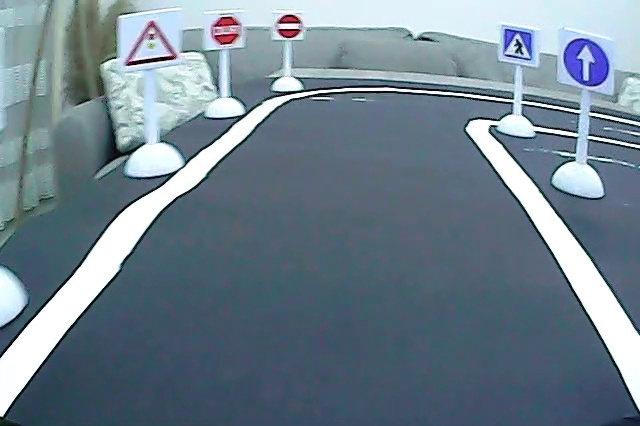do not enter: (276, 12, 304, 41)
pedestrian crossing: (501, 26, 536, 64)
red light: (121, 16, 181, 68)
stop sign: (208, 13, 244, 49)
